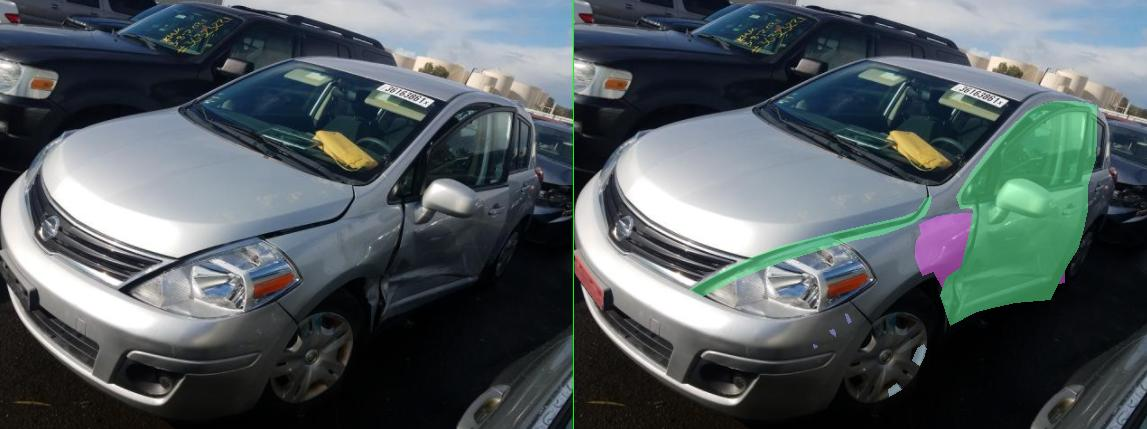Broken part: (733, 101, 1045, 325), (230, 196, 715, 296)
Corrosion: (677, 344, 705, 365), (629, 383, 655, 396)
Dent: (683, 213, 991, 316)
Missing part: (2, 252, 58, 309)
Scratch: (713, 222, 811, 266), (845, 215, 907, 235), (542, 313, 554, 323), (510, 329, 522, 336), (478, 344, 486, 348)
